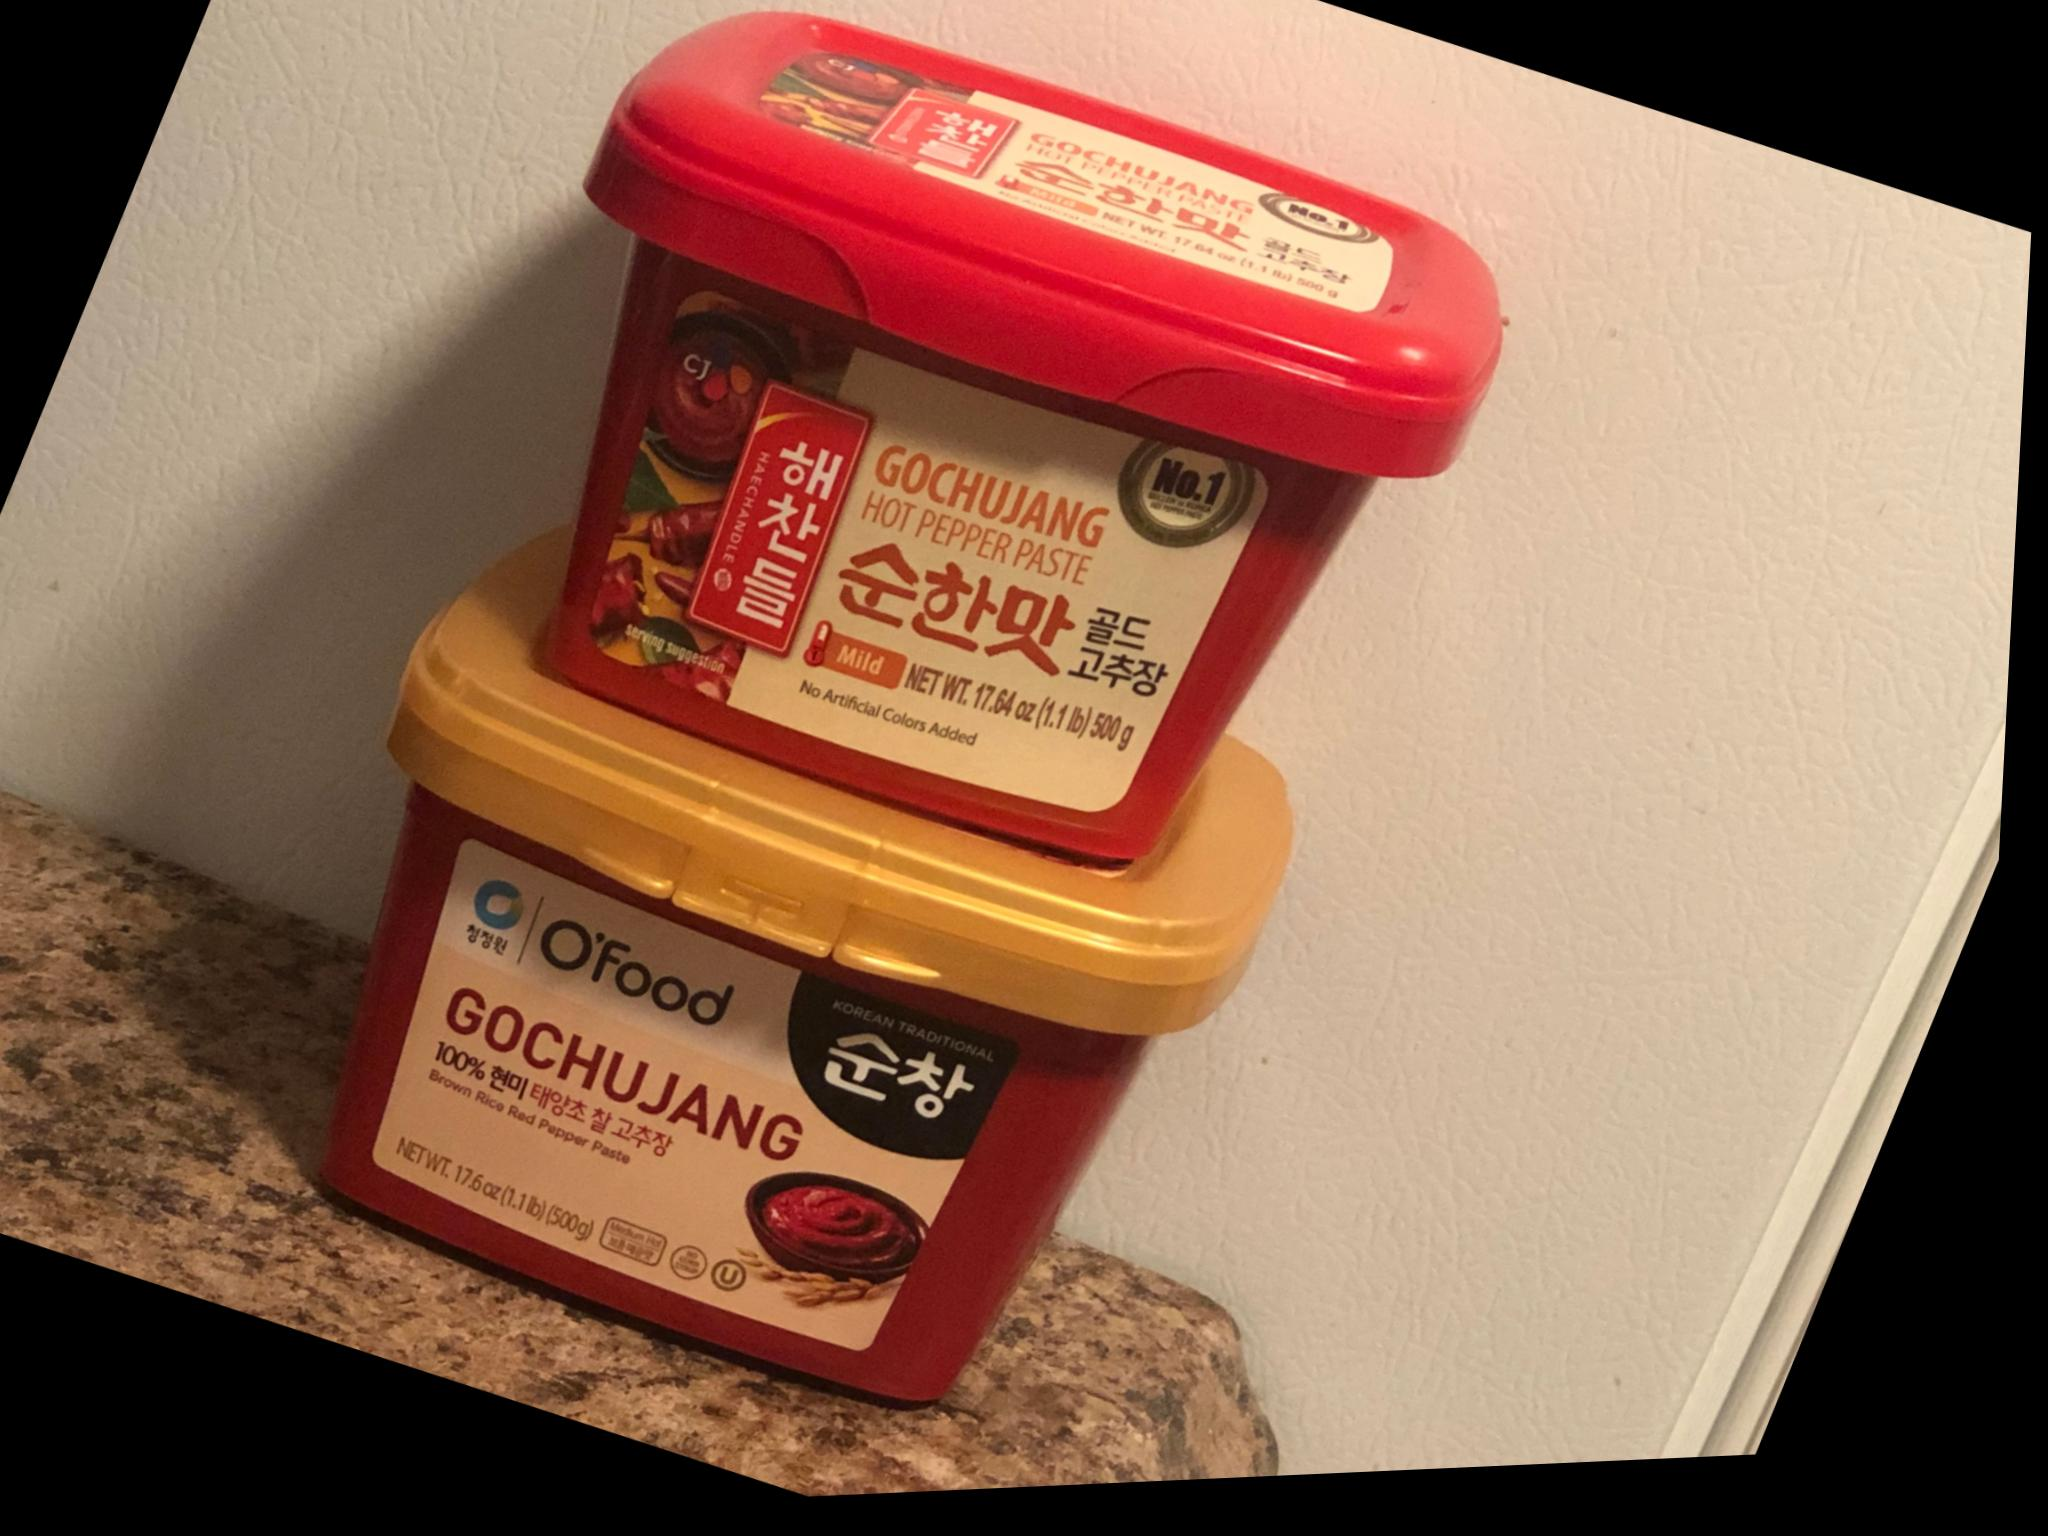plastic: (393, 13, 1500, 863), (327, 539, 1290, 1399)
